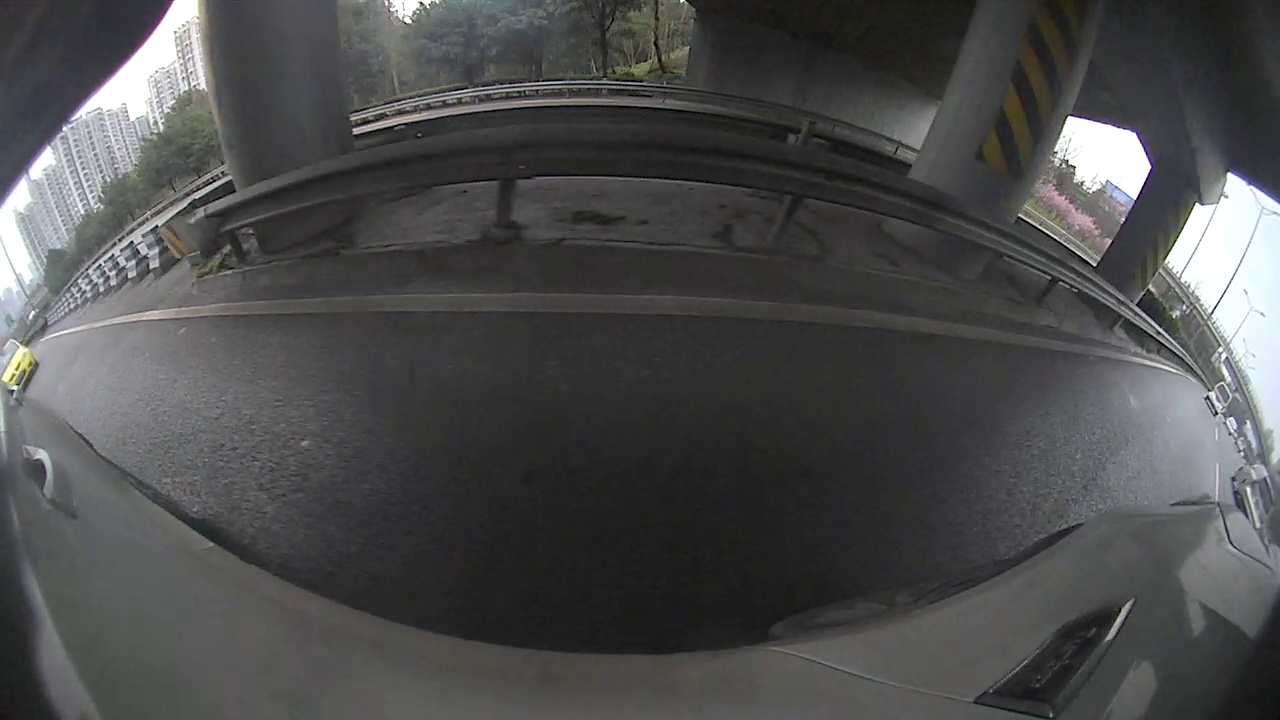car: (1231, 464, 1273, 533), (3, 337, 39, 392), (1203, 383, 1232, 417)
